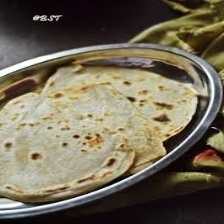roti: (0, 61, 199, 203)
